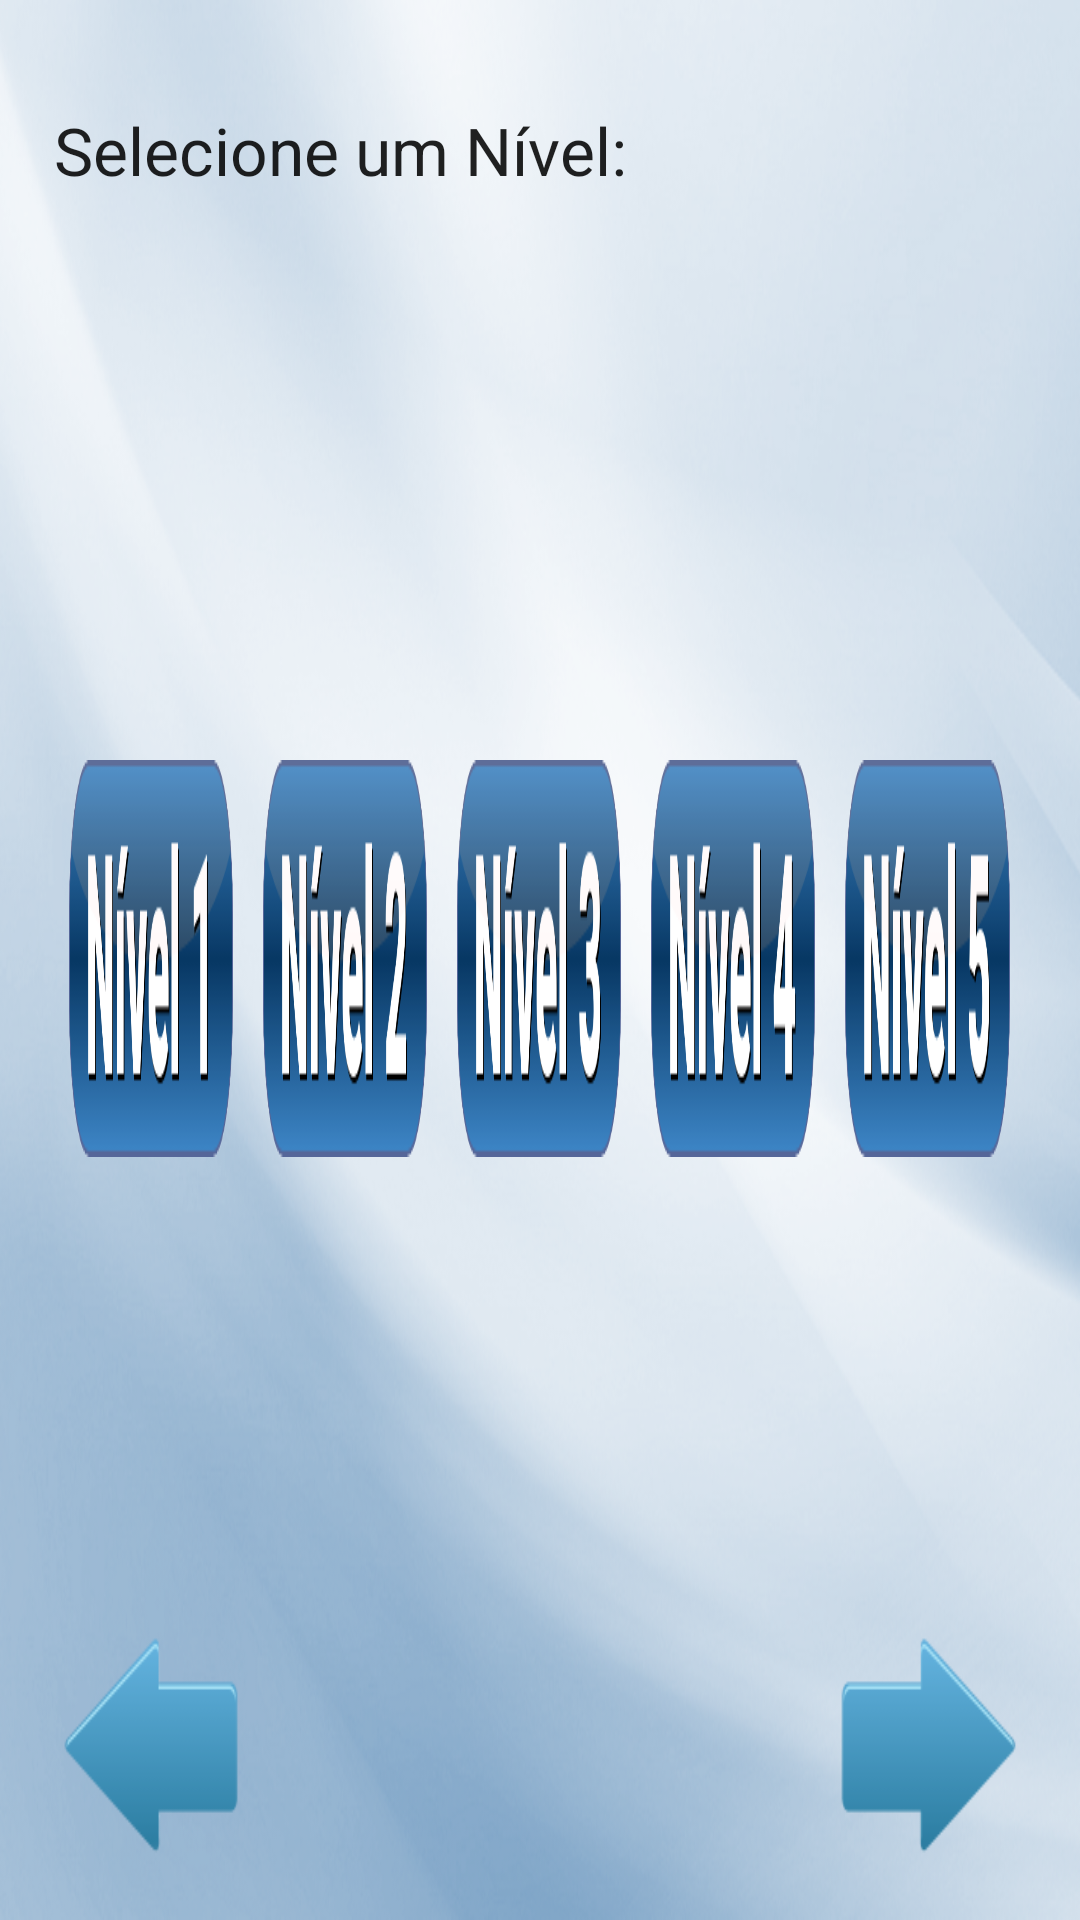

Where icons sit on this 1080*1920 app screen, as [x1, y1, x2, y2]:
seta direita: [832, 1639, 1016, 1912]
seta esquerda: [65, 1639, 238, 1851]
